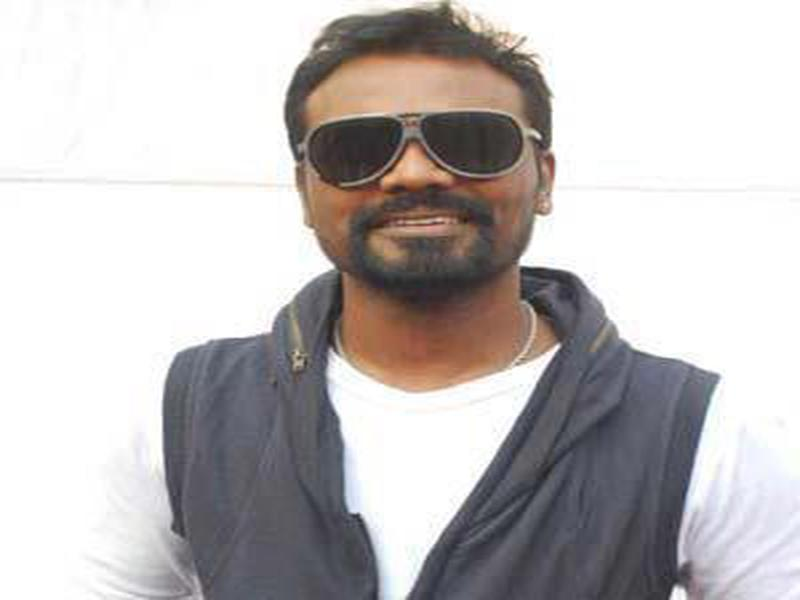without_mask: (295, 67, 540, 289)
